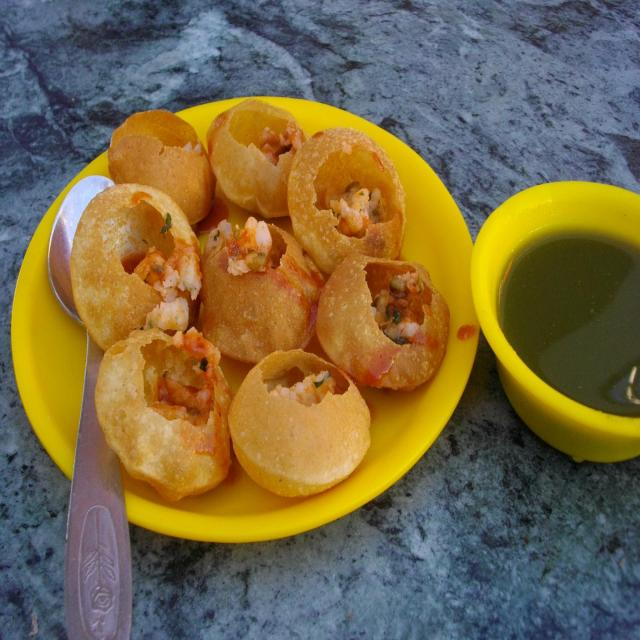paani_puri: (103, 94, 449, 488)
